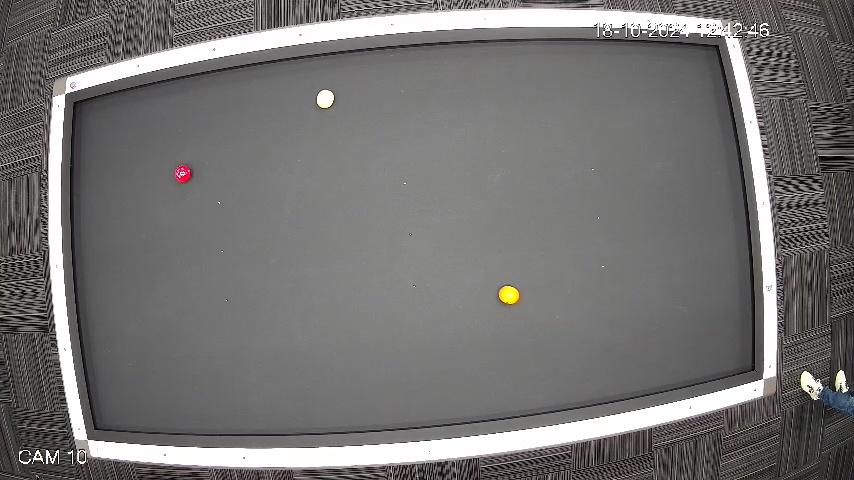Red: (174, 165, 192, 184)
White: (316, 88, 335, 110)
Yellow: (496, 284, 521, 306)
